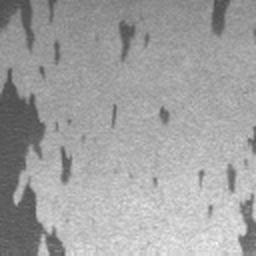Red iron sheet: (0, 0, 73, 255), (198, 164, 256, 256), (118, 19, 150, 61), (210, 0, 230, 38), (246, 125, 256, 155), (160, 105, 170, 124), (111, 105, 118, 128), (152, 178, 157, 188)
